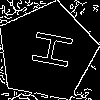H: (22, 27, 74, 71)
